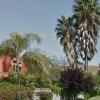Palm tree: (54, 1, 96, 77)
